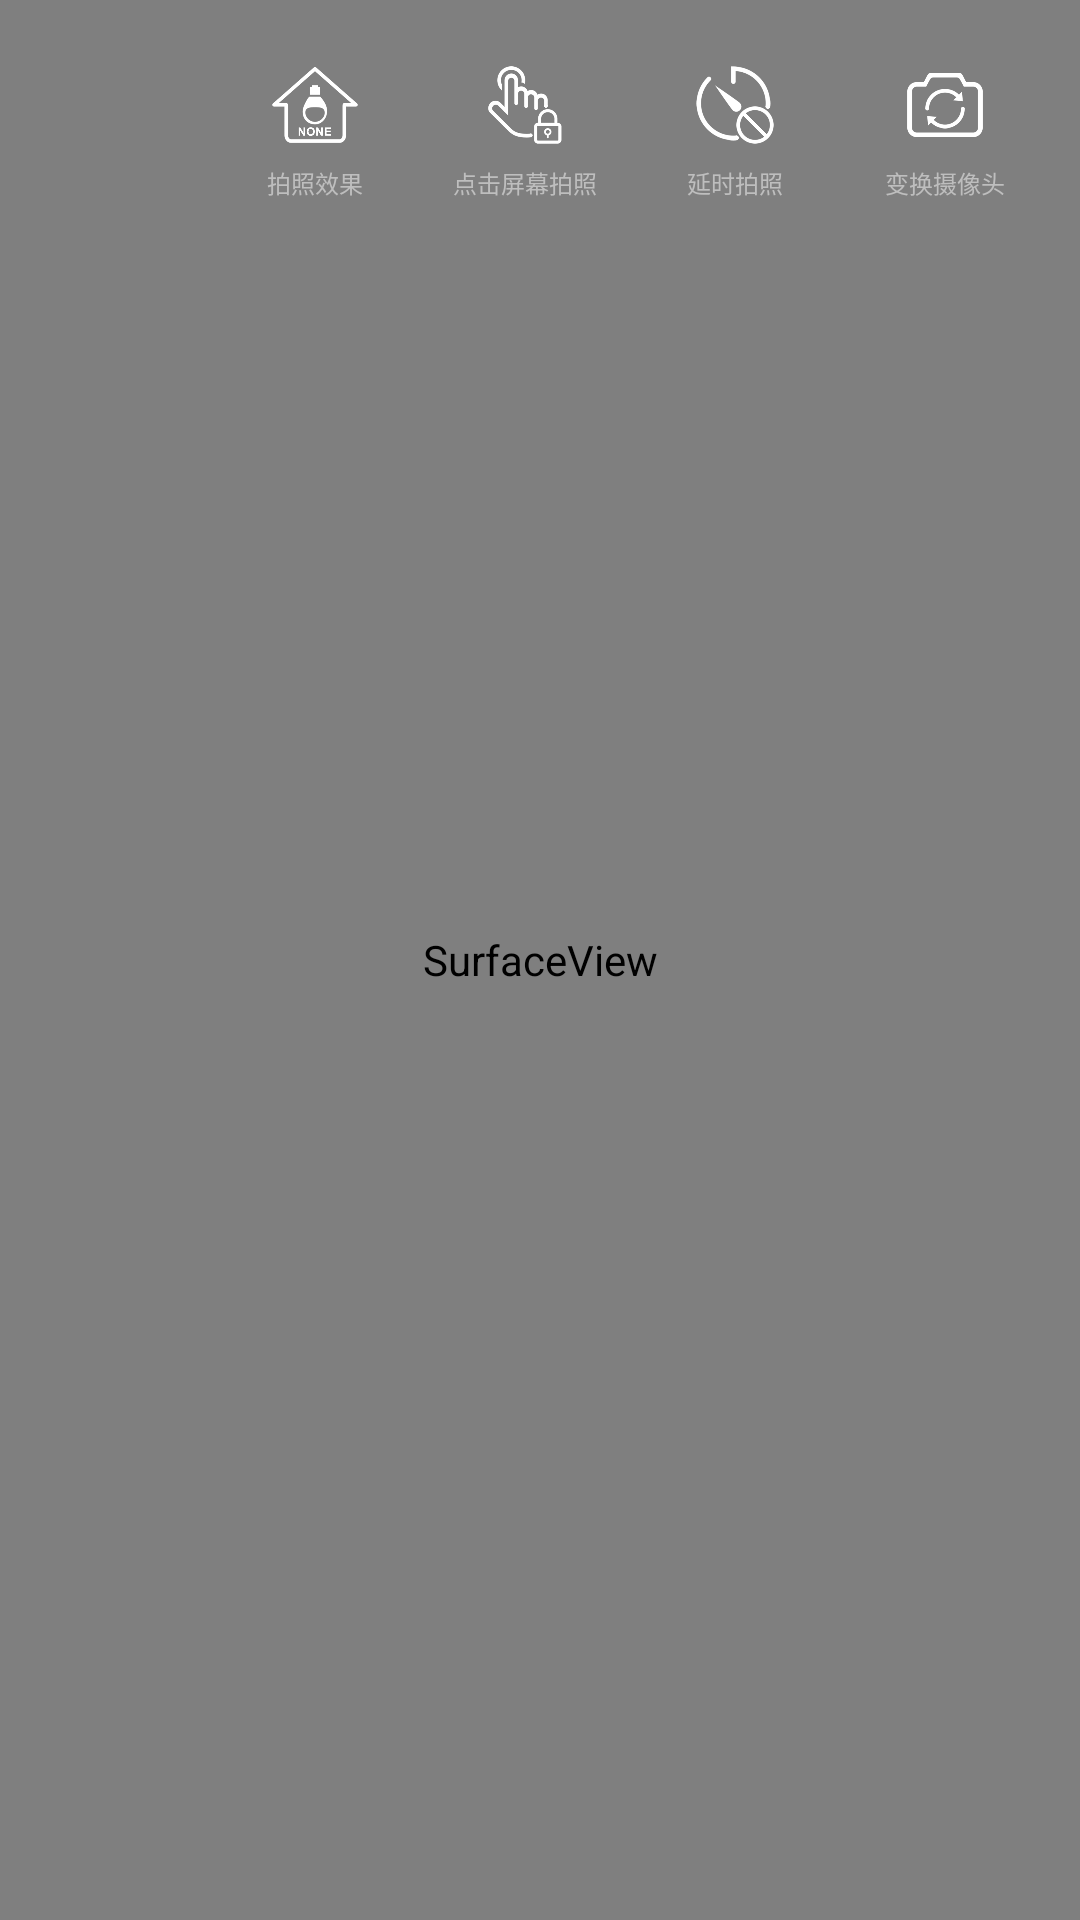

Icons on this 1080 × 1920 Android screen, each with its box as {"x1": x1, "y1": y1, "x2": x2, "y2": y2}:
clkview lock: {"x1": 488, "y1": 66, "x2": 562, "y2": 144}
notime: {"x1": 696, "y1": 66, "x2": 774, "y2": 144}
